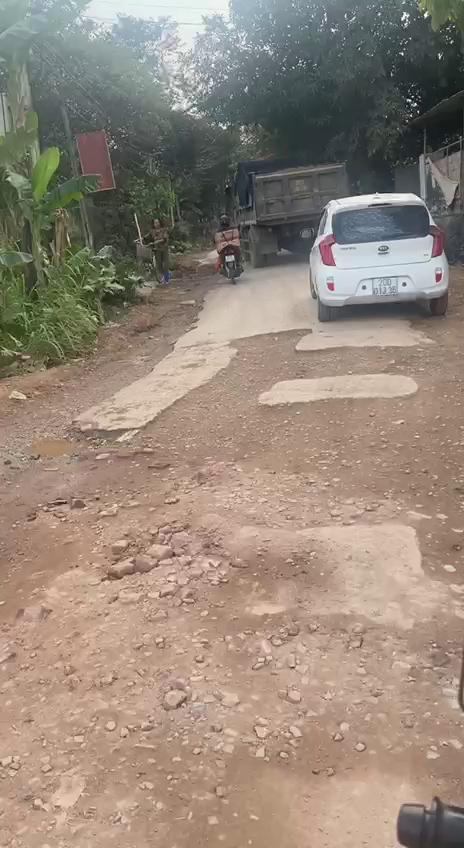pothole: (0, 412, 464, 772), (128, 335, 464, 536)
